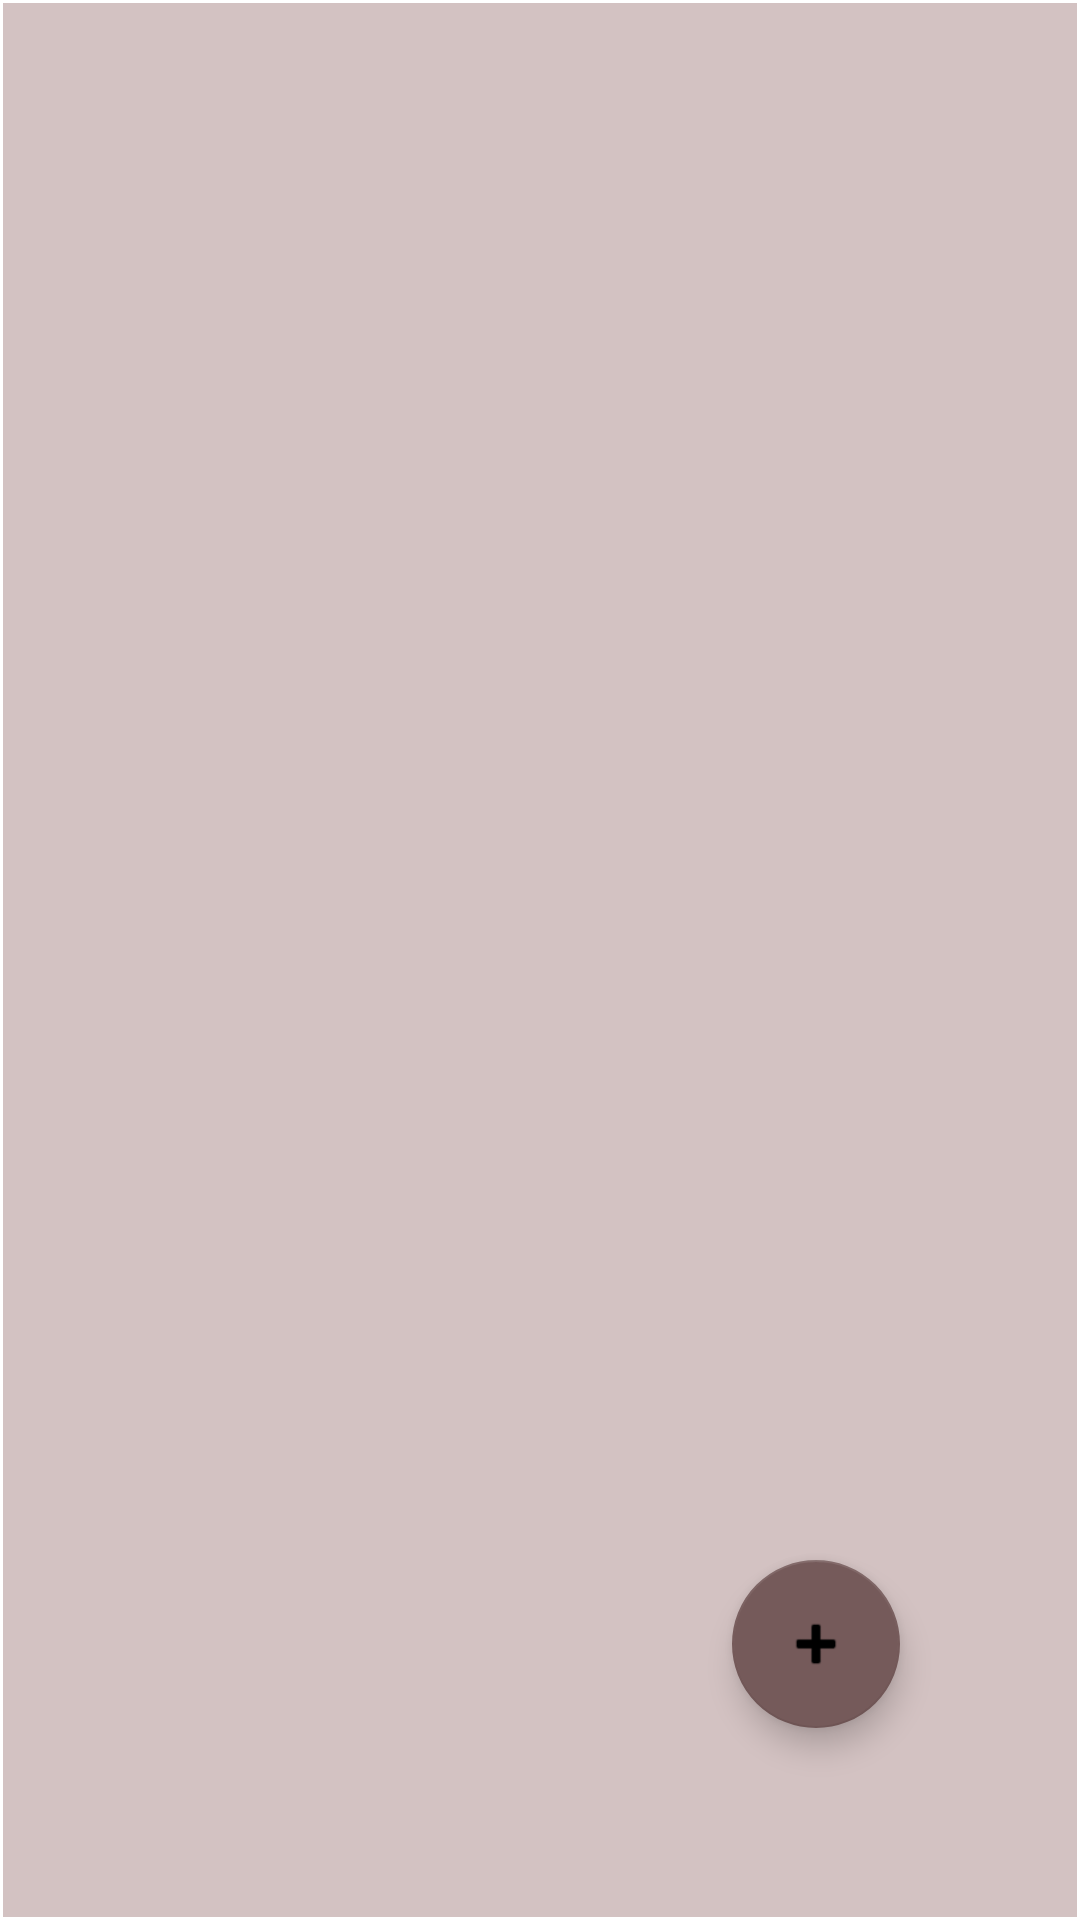

Named icons in this screenshot (1080 x 1920) and their bounding boxes, box=[x1, y1, x2, y2]:
add: box=[732, 1560, 900, 1728]
